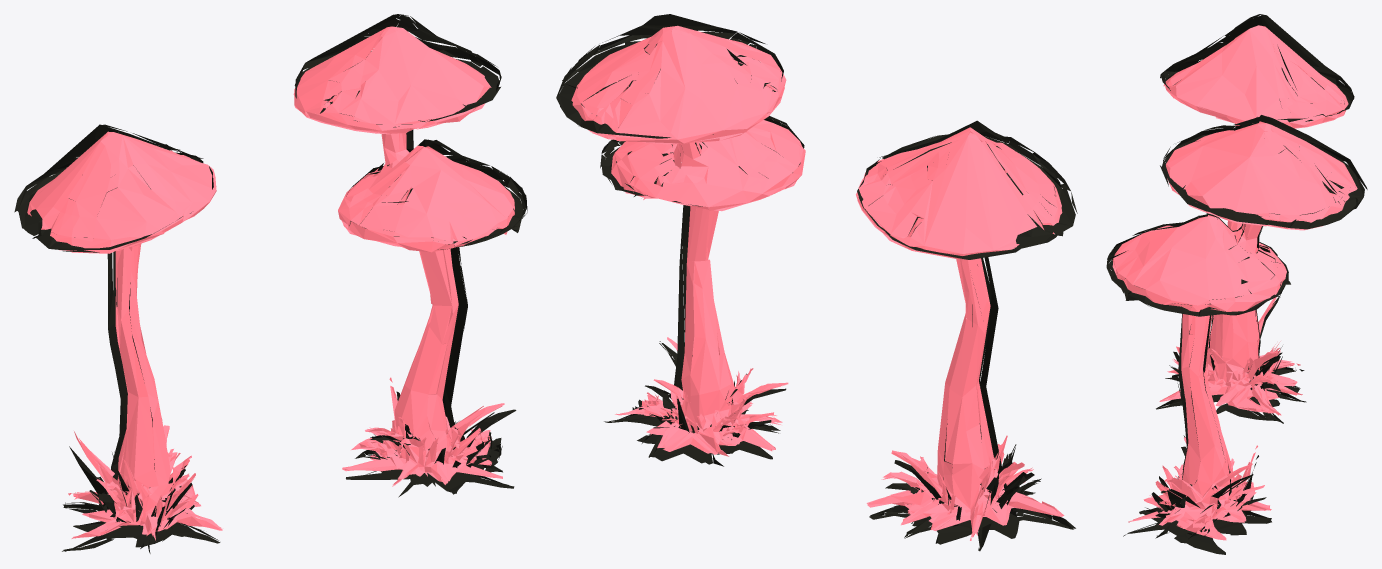
Rendered from df_v2_mushroom_blocker_e_a.glb.
3 renders of one model, left to right at view 1: azimuth 30°, elevation 25°; view 2: azimuth 150°, elevation 25°; view 3: azimuth 270°, elevation 25°, orthographic. The views are drawn at different scales.
Visible parts, largest first — view 1: mushroom_blocker_e_mesh_01, mushroom_blocker_e_mesh_01_ink_outline; view 2: mushroom_blocker_e_mesh_01, mushroom_blocker_e_mesh_01_ink_outline; view 3: mushroom_blocker_e_mesh_01, mushroom_blocker_e_mesh_01_ink_outline.
Part boxes in pixels (bbox=[...]): mushroom_blocker_e_mesh_01: bbox=[27, 26, 514, 540]; mushroom_blocker_e_mesh_01_ink_outline: bbox=[14, 14, 527, 553]; mushroom_blocker_e_mesh_01: bbox=[571, 25, 1064, 540]; mushroom_blocker_e_mesh_01_ink_outline: bbox=[556, 14, 1077, 551]; mushroom_blocker_e_mesh_01: bbox=[1112, 25, 1357, 540]; mushroom_blocker_e_mesh_01_ink_outline: bbox=[1106, 14, 1367, 554].
Size of the model in its own units: 1 by 0.8884 by 0.5212.
